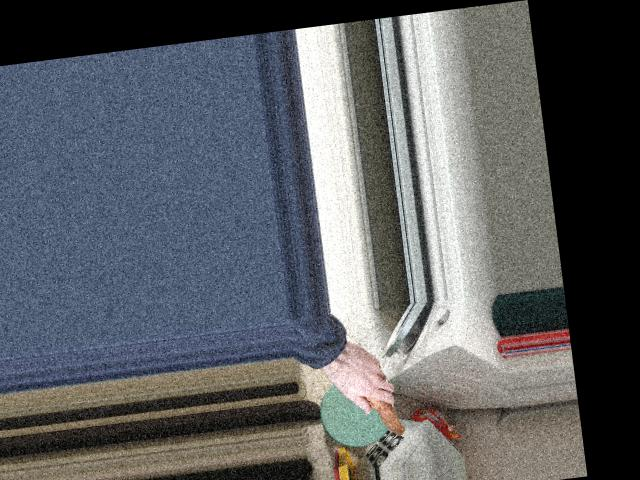sweet_potato: (341, 359, 405, 438)
